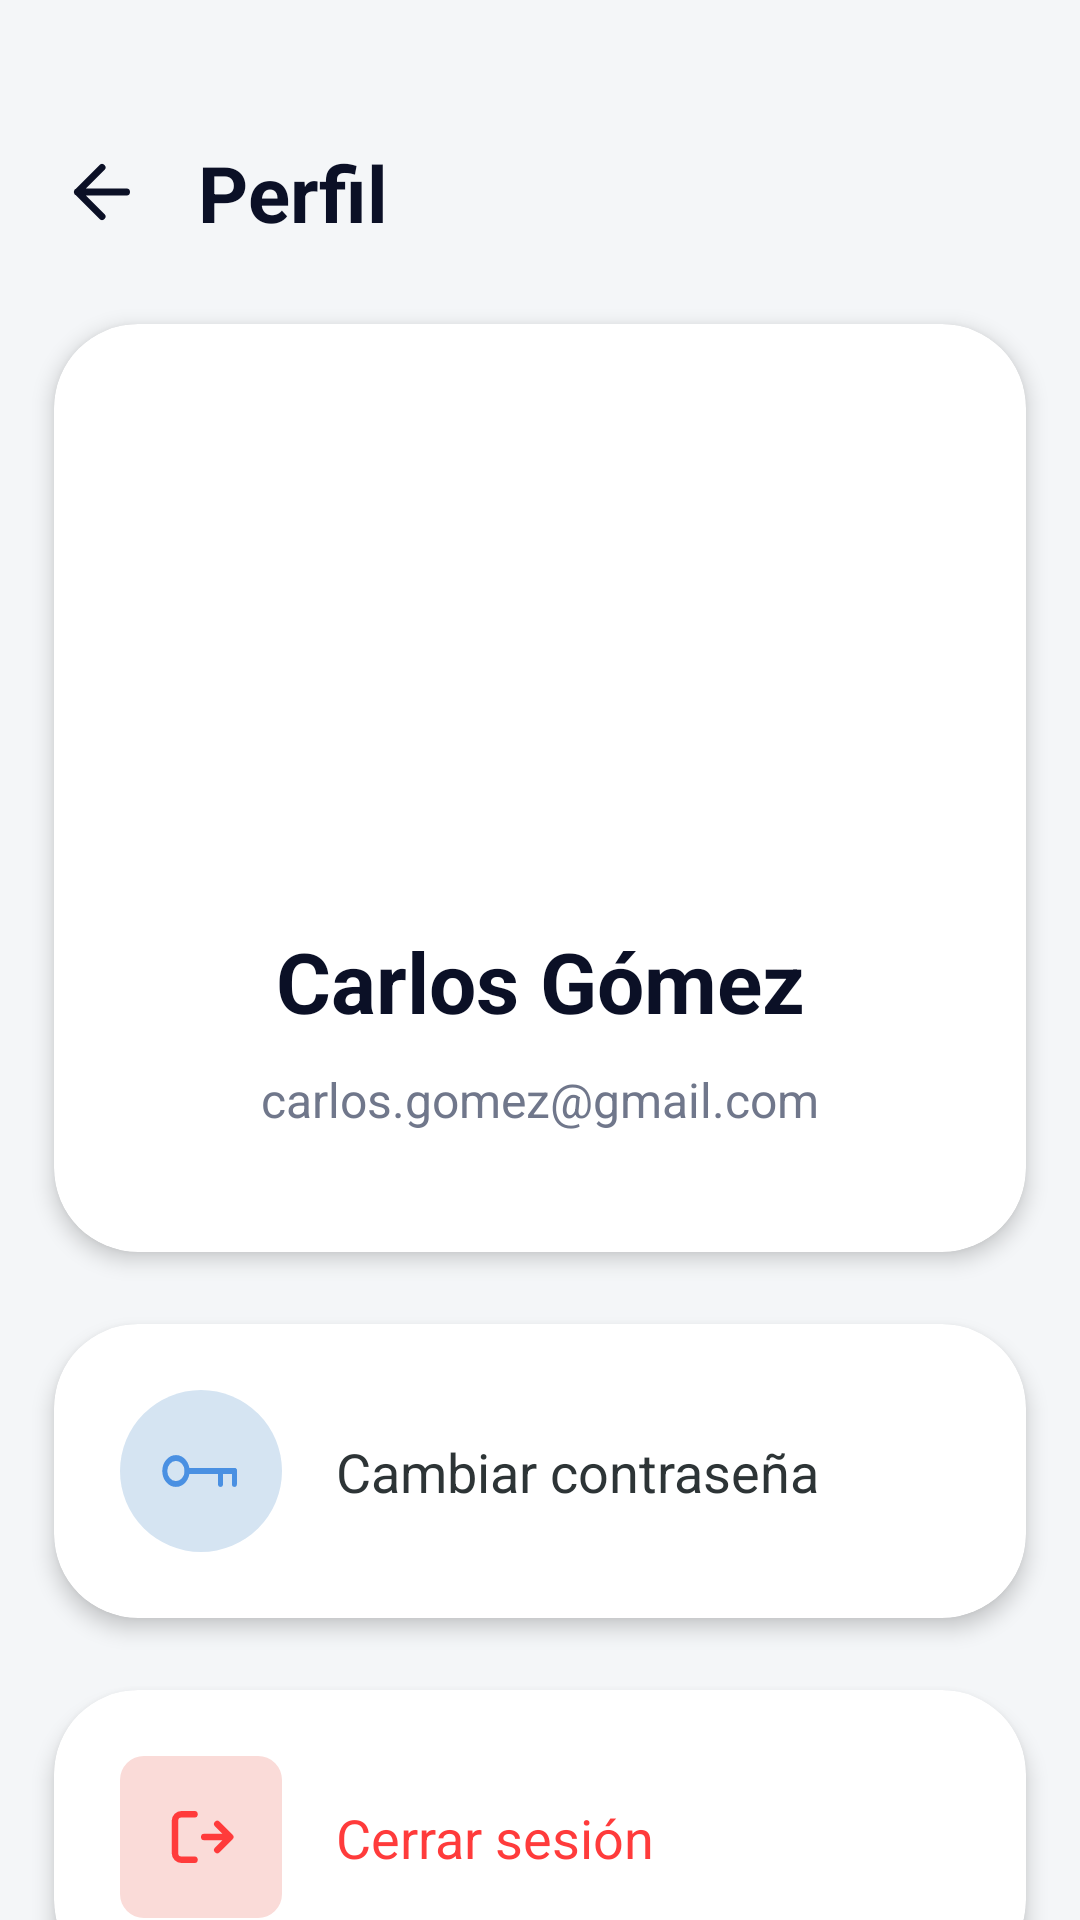

Point at icon controls on the screen. Image size 1080px×1920px, points as point (x, y).
cerrar sesion: point (202, 1837)
flecha atras: point (102, 192)
pass: point (199, 1471)
